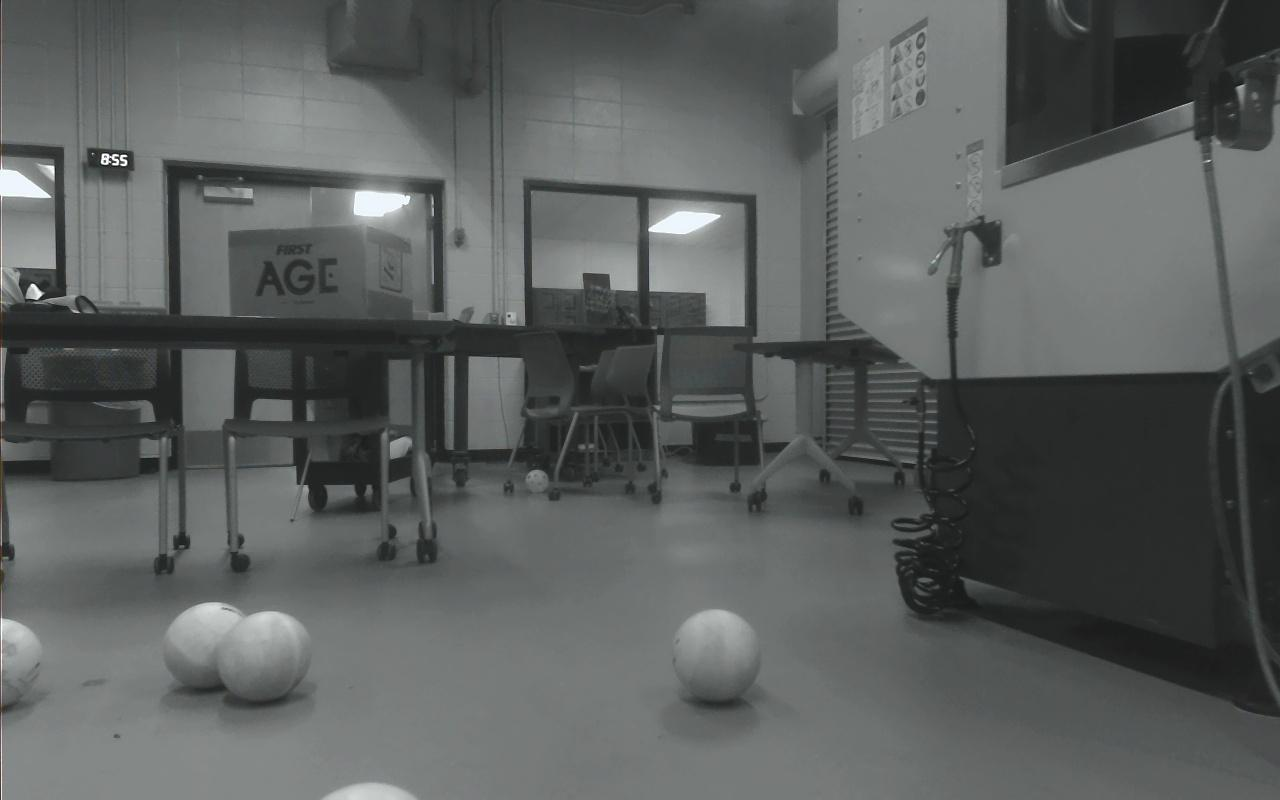Fuel: (216, 610, 312, 703), (671, 609, 762, 703), (163, 601, 248, 690), (0, 617, 44, 708), (320, 780, 419, 800)
